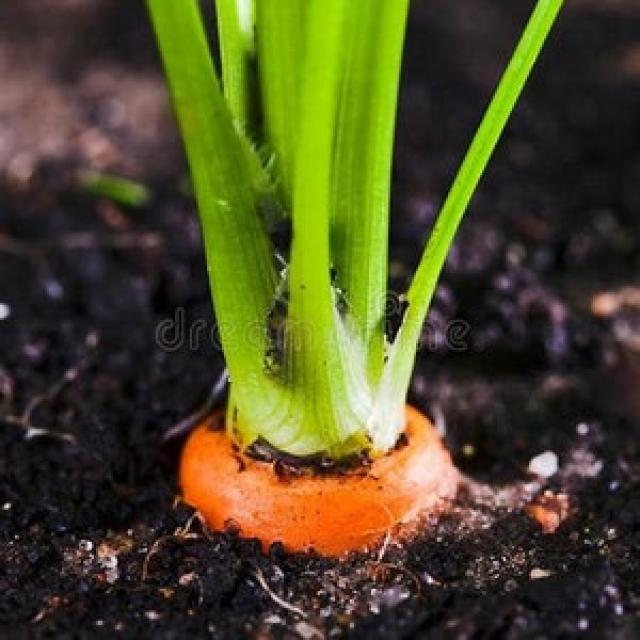Amul-Butter: (242, 71, 639, 546), (235, 267, 277, 309), (276, 338, 317, 379), (638, 163, 640, 168)
carrot: (149, 0, 569, 567)
